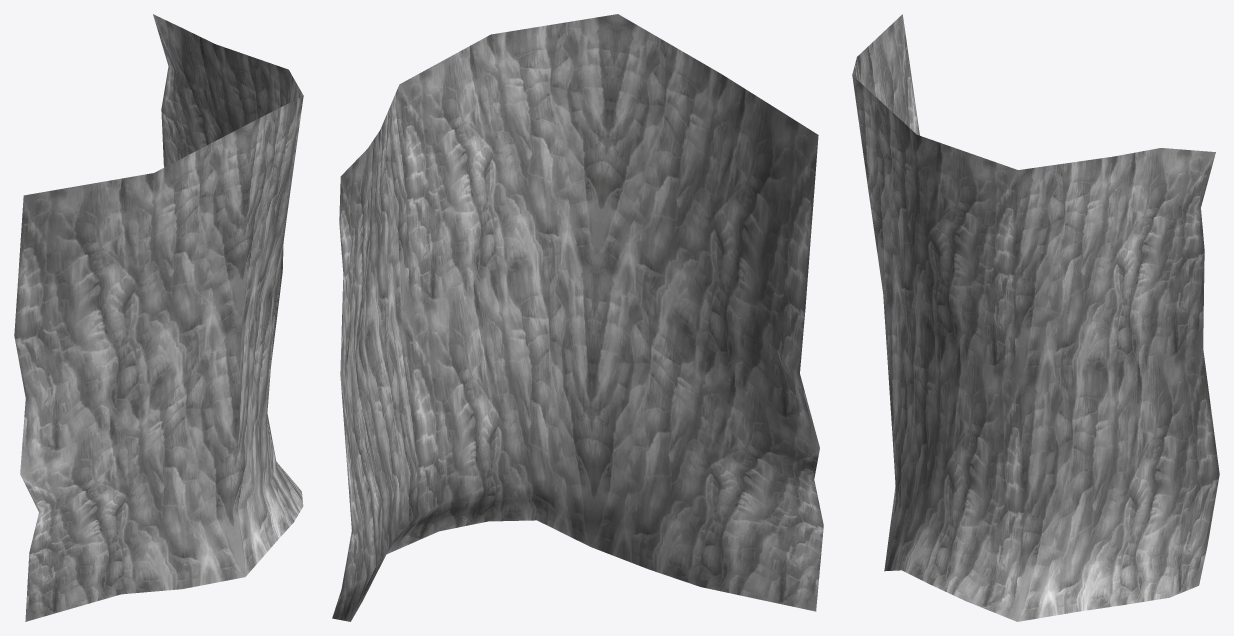
Rendered from SWORDLIGHT20_PS-AREA03_74.fbx.
3 renders of one model, left to right at view 1: azimuth 30°, elevation 25°; view 2: azimuth 150°, elevation 25°; view 3: azimuth 270°, elevation 25°, orthographic. The views are drawn at different scales.
Visible parts, largest first — view 1: SWORDLIGHT20_PS-AREA03_74; view 2: SWORDLIGHT20_PS-AREA03_74; view 3: SWORDLIGHT20_PS-AREA03_74.
Part boxes in pixels (<box>): SWORDLIGHT20_PS-AREA03_74: <box>14,14,303,621</box>; SWORDLIGHT20_PS-AREA03_74: <box>332,14,823,621</box>; SWORDLIGHT20_PS-AREA03_74: <box>852,14,1219,621</box>.
Bounding box in the file's own units: 124065 × 166272 × 112231.
1 material, 1 textured.
